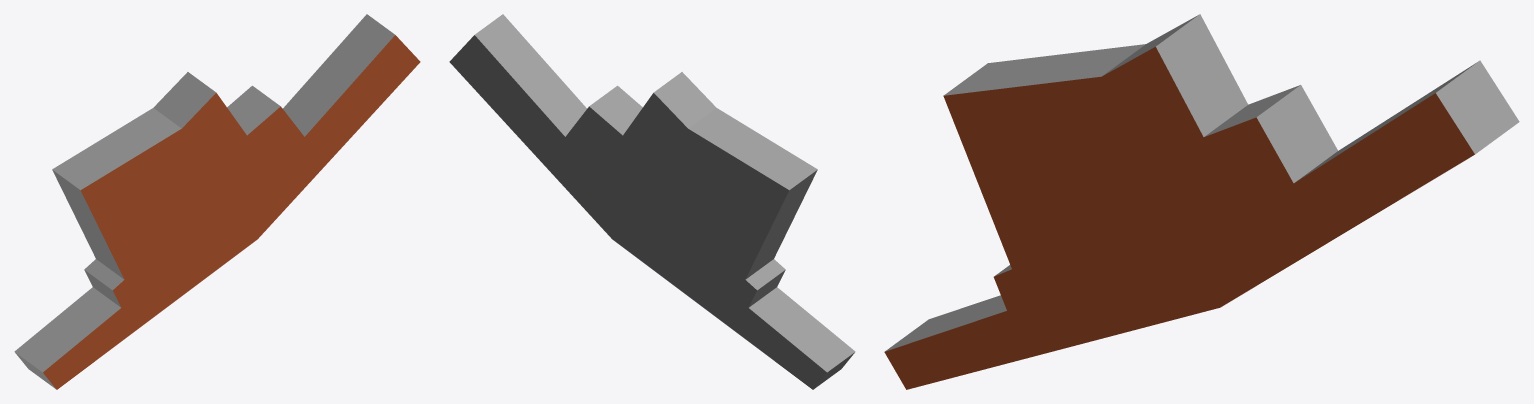
Rendered from construction_6569_assumed_A_Casa_h6m.obj.
The picture shows the model from 3 angles, left to right: view 1: azimuth 30°, elevation 25°; view 2: azimuth 150°, elevation 25°; view 3: azimuth 330°, elevation 25°; orthographic projection. The views are drawn at different scales.
Visible parts, largest first — view 1: construction_6569_assumed_A_Casa; view 2: construction_6569_assumed_A_Casa; view 3: construction_6569_assumed_A_Casa.
Part boxes in pixels (left/top/right/bottom): construction_6569_assumed_A_Casa: left=14, top=14, right=420, bottom=389; construction_6569_assumed_A_Casa: left=449, top=14, right=855, bottom=389; construction_6569_assumed_A_Casa: left=884, top=14, right=1519, bottom=389.
Size of the model in its own units: 45.92 by 31.65 by 6.
